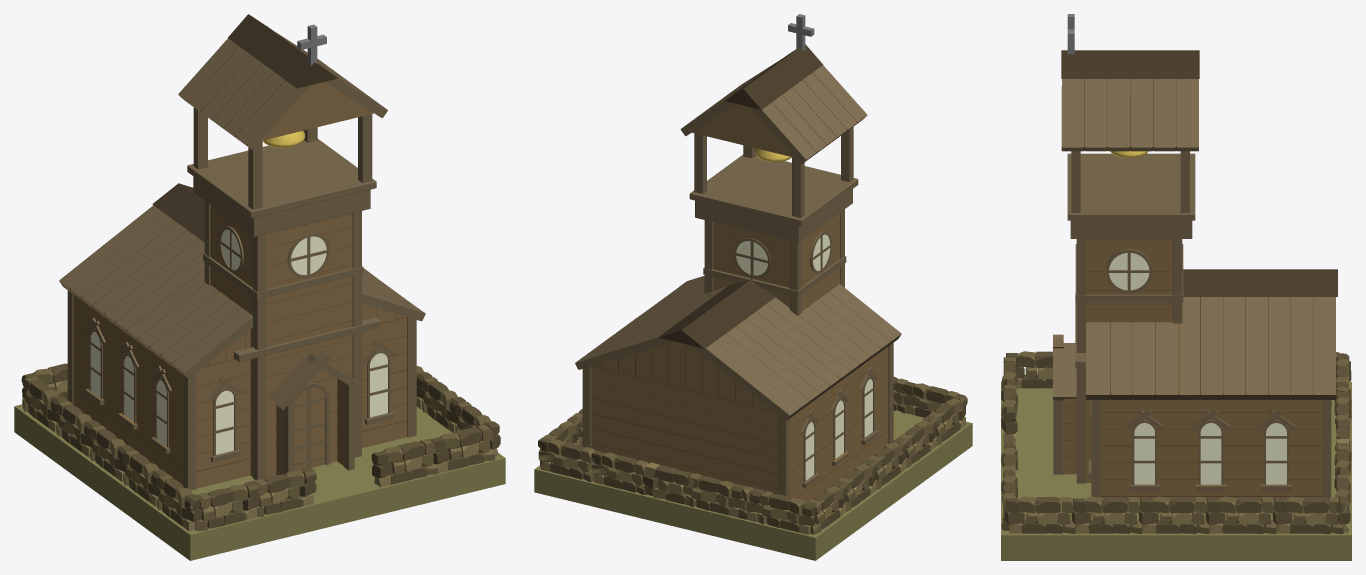
The model's file is Wild West Tower Upgrade 1.fbx.
The picture shows the model from 3 angles, left to right: view 1: azimuth 30°, elevation 25°; view 2: azimuth 150°, elevation 25°; view 3: azimuth 270°, elevation 25°; orthographic projection. The views are drawn at different scales.
Parts seen in each view (by area): view 1: tower upgrade 1; view 2: tower upgrade 1; view 3: tower upgrade 1.
Part boxes in pixels (x1,y1,x2,y2): tower upgrade 1: (14, 14, 505, 560); tower upgrade 1: (534, 14, 972, 560); tower upgrade 1: (1001, 14, 1351, 560).
Bounding box in the file's own units: 5988 × 8529 × 5788.
